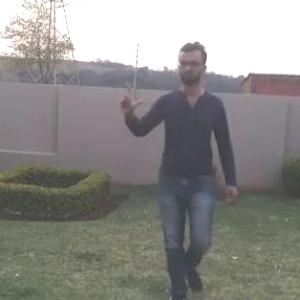land_hand: (113, 74, 145, 117)
